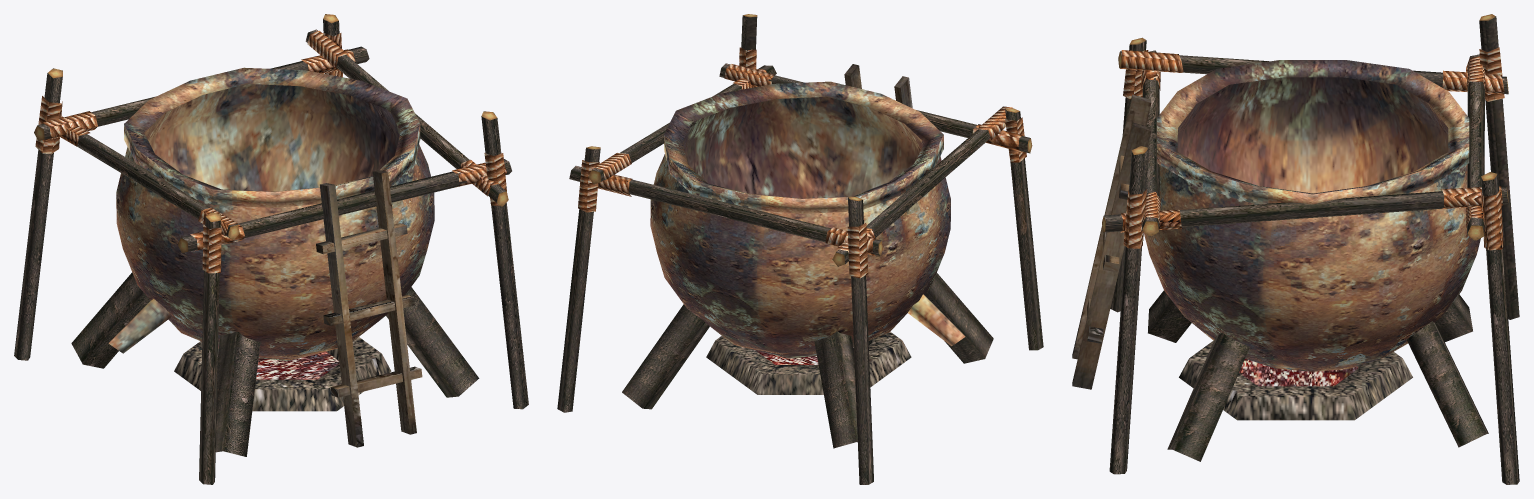
The model's file is building_oil_cauldron.glb.
3 views of the same model, side by side, from view 1: azimuth 30°, elevation 25°; view 2: azimuth 150°, elevation 25°; view 3: azimuth 270°, elevation 25° (orthographic). The views are drawn at different scales.
Visible parts, largest first — view 1: building_oil_cauldron; view 2: building_oil_cauldron; view 3: building_oil_cauldron.
Part boxes in pixels (bbox=[...]): building_oil_cauldron: bbox=[14, 14, 528, 484]; building_oil_cauldron: bbox=[557, 14, 1043, 484]; building_oil_cauldron: bbox=[1072, 14, 1519, 484].
Bounding box in the file's own units: 3.3 × 2.81 × 3.53.
7 materials, 7 textured.
